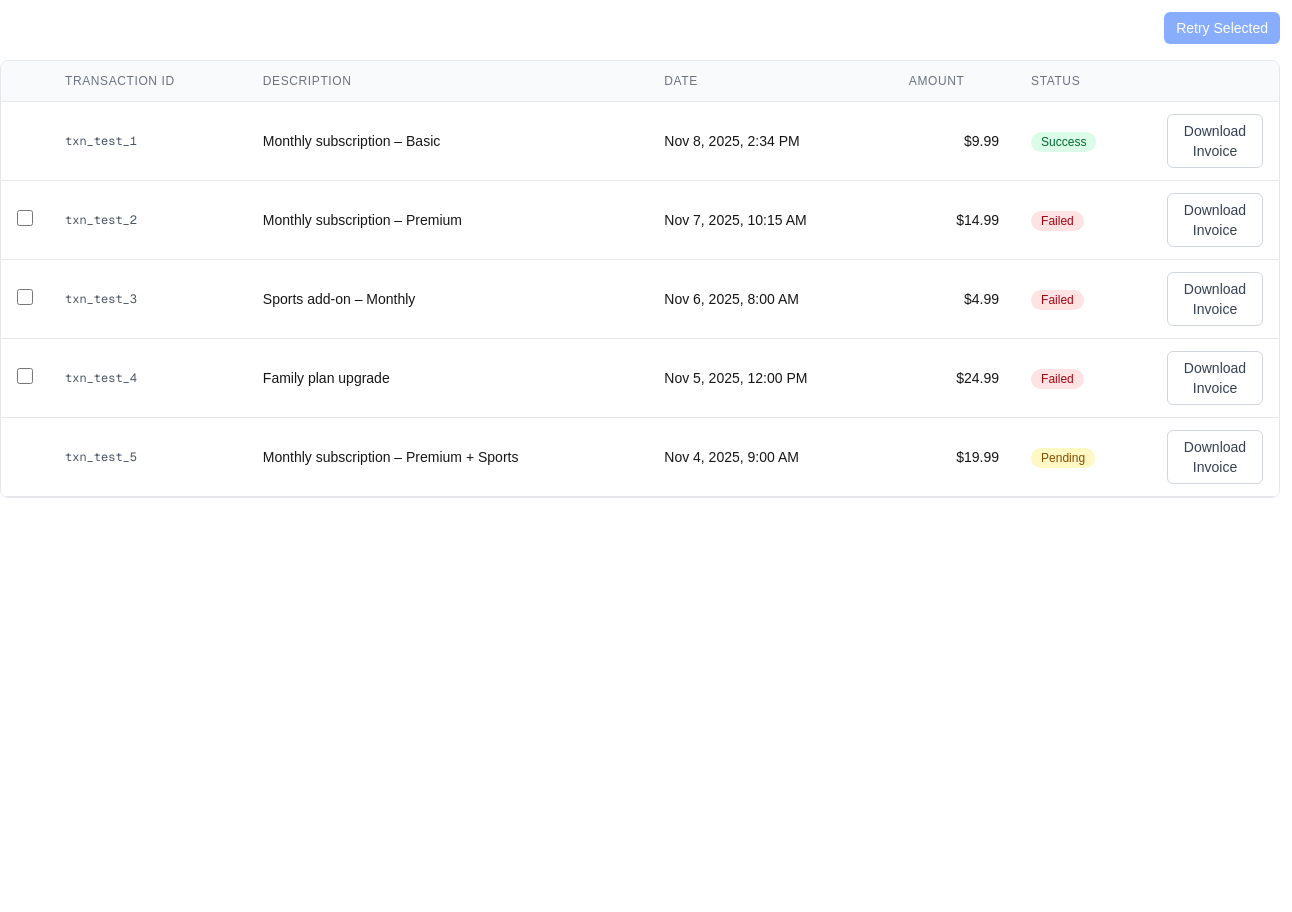
Test: TransactionsTable actions › downloads invoice and shows success toast
Expected: the text "txn_test_1" is shown, 49,102 -> 247,180
Click the button "Download Invoice" in the row of "txn_test_1": [1215, 141] box 1167,114 -> 1263,168
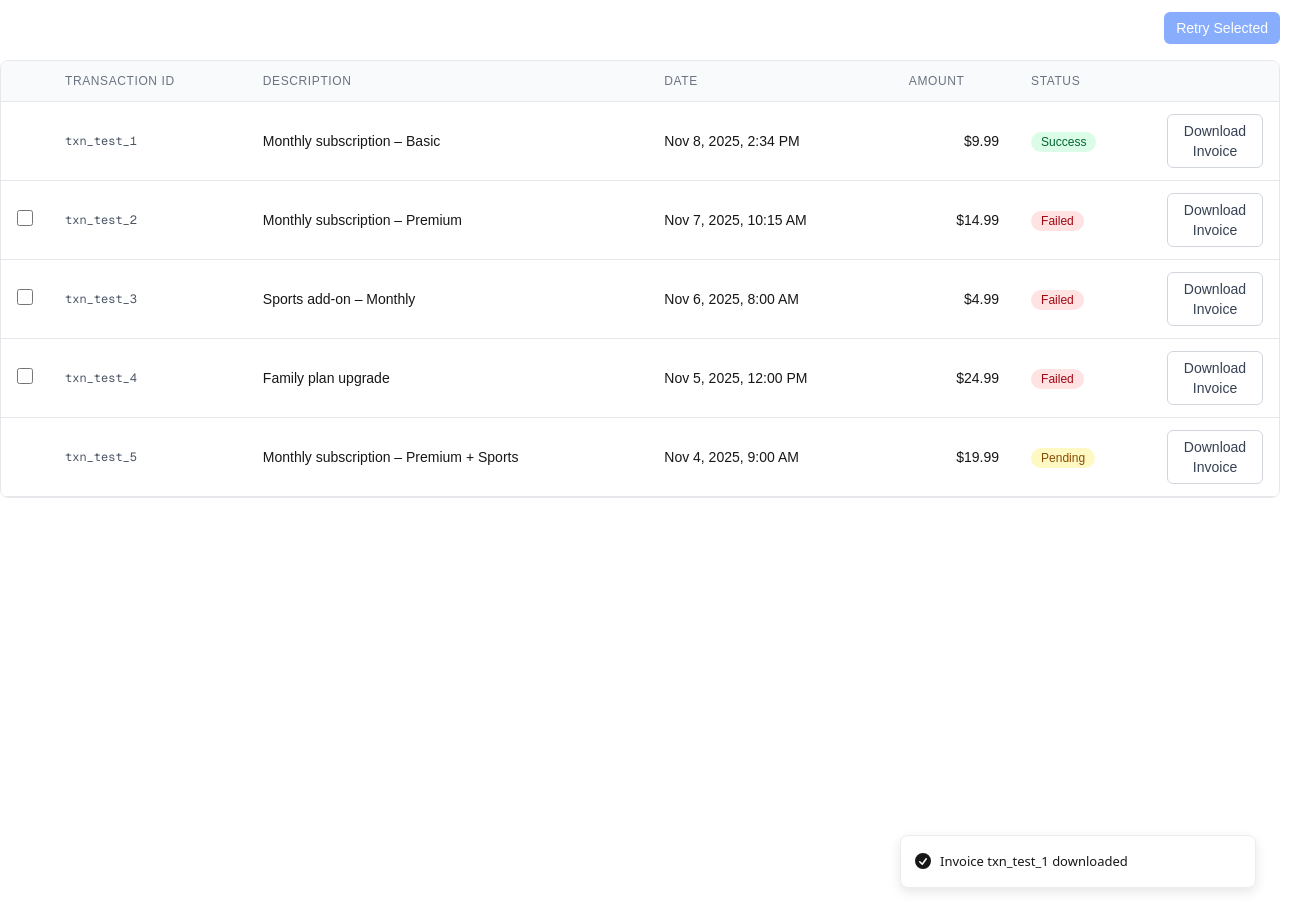
Expected: the text "Invoice txn_test_1 downloaded" is shown, 940,852 -> 1128,871
